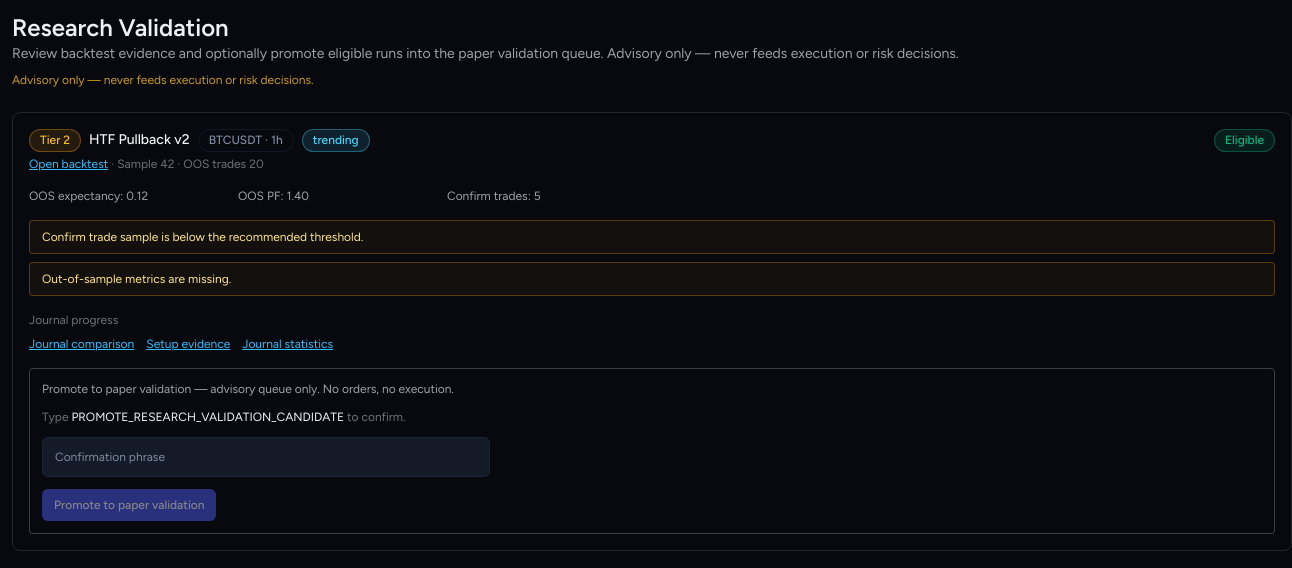
Scenario: ResearchValidationPage AT-035 › promotes with confirmation phrase
Type "PROMOTE_RESEARCH_VALIDATION_CANDIDATE" into the field with test id "research-validation-promote-confirm" at (266, 457), box [42,437,490,477]
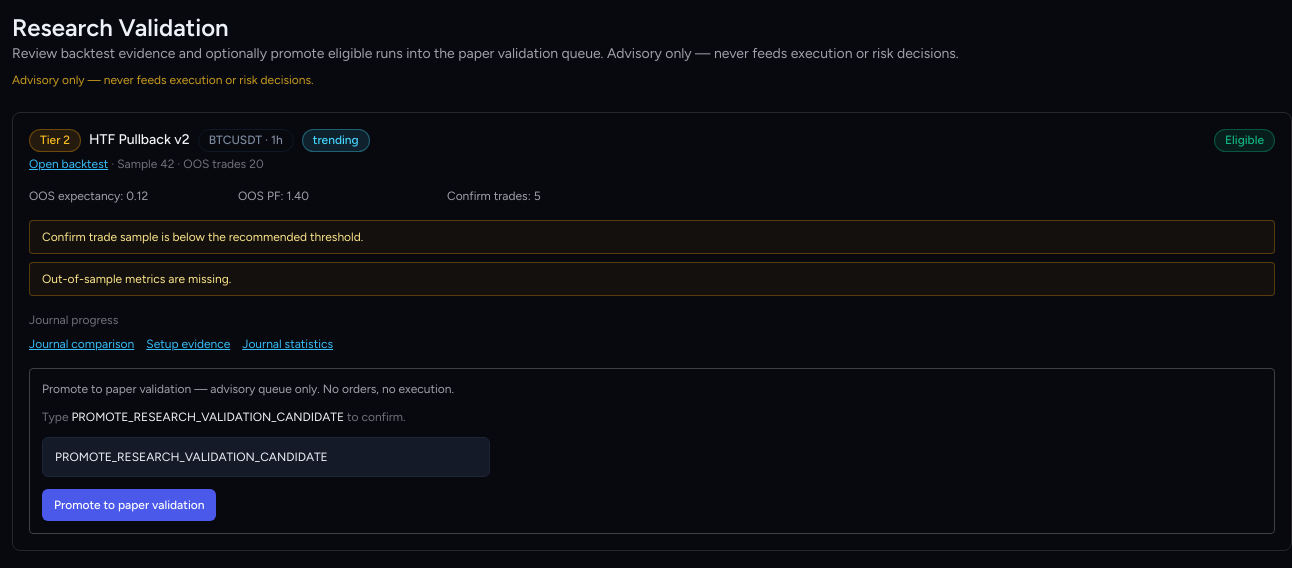
Click the button with test id "research-validation-promote-submit" at (129, 505), box [42,489,216,521]
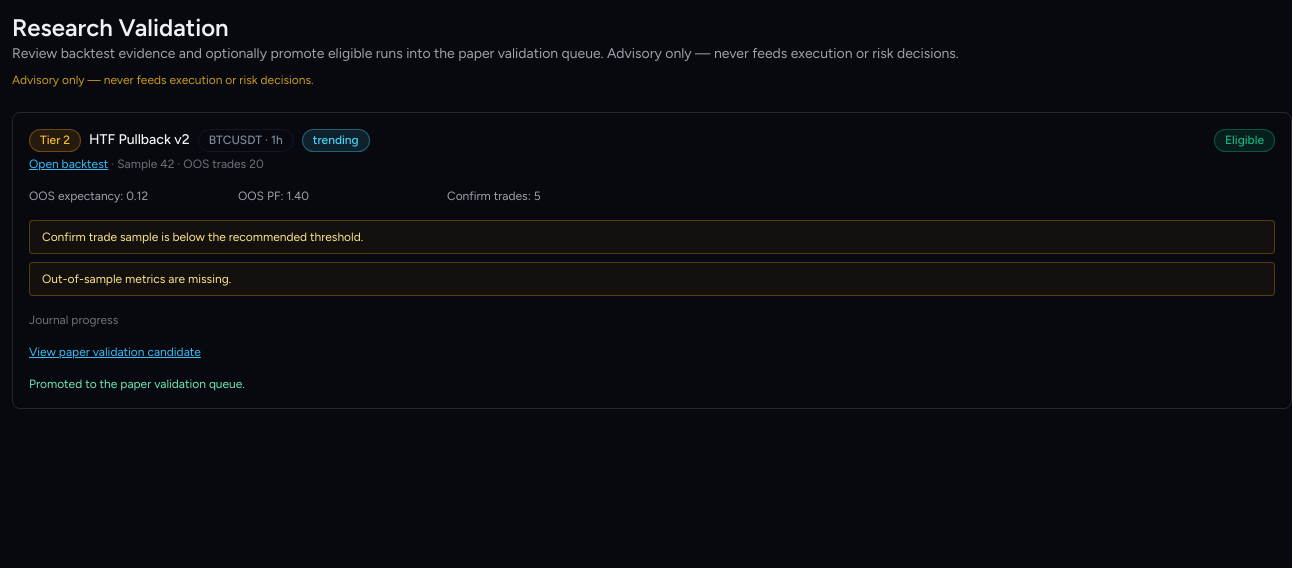
Expected: the text with test id "research-validation-promoted" shows "Promoted to the paper validation queue", [29,377,245,391]
